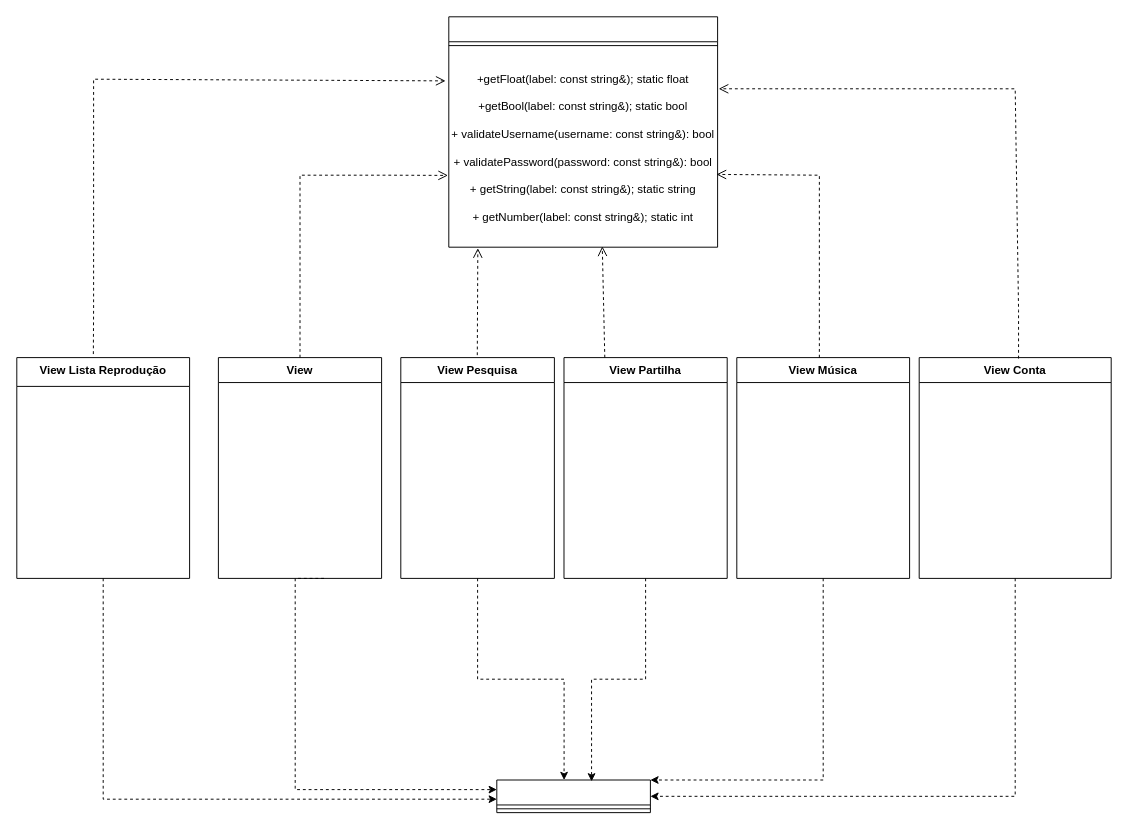
Some shapes in this 1128 by 829 pixel diagram are drawn without their labels. The shapes that lost their labels are listed below. From the top down, each one's box as (x1, y1, x2, y2) in pixels, then its label:
(448, 16, 718, 247): Utils
(496, 779, 650, 813): InvalidDataException
